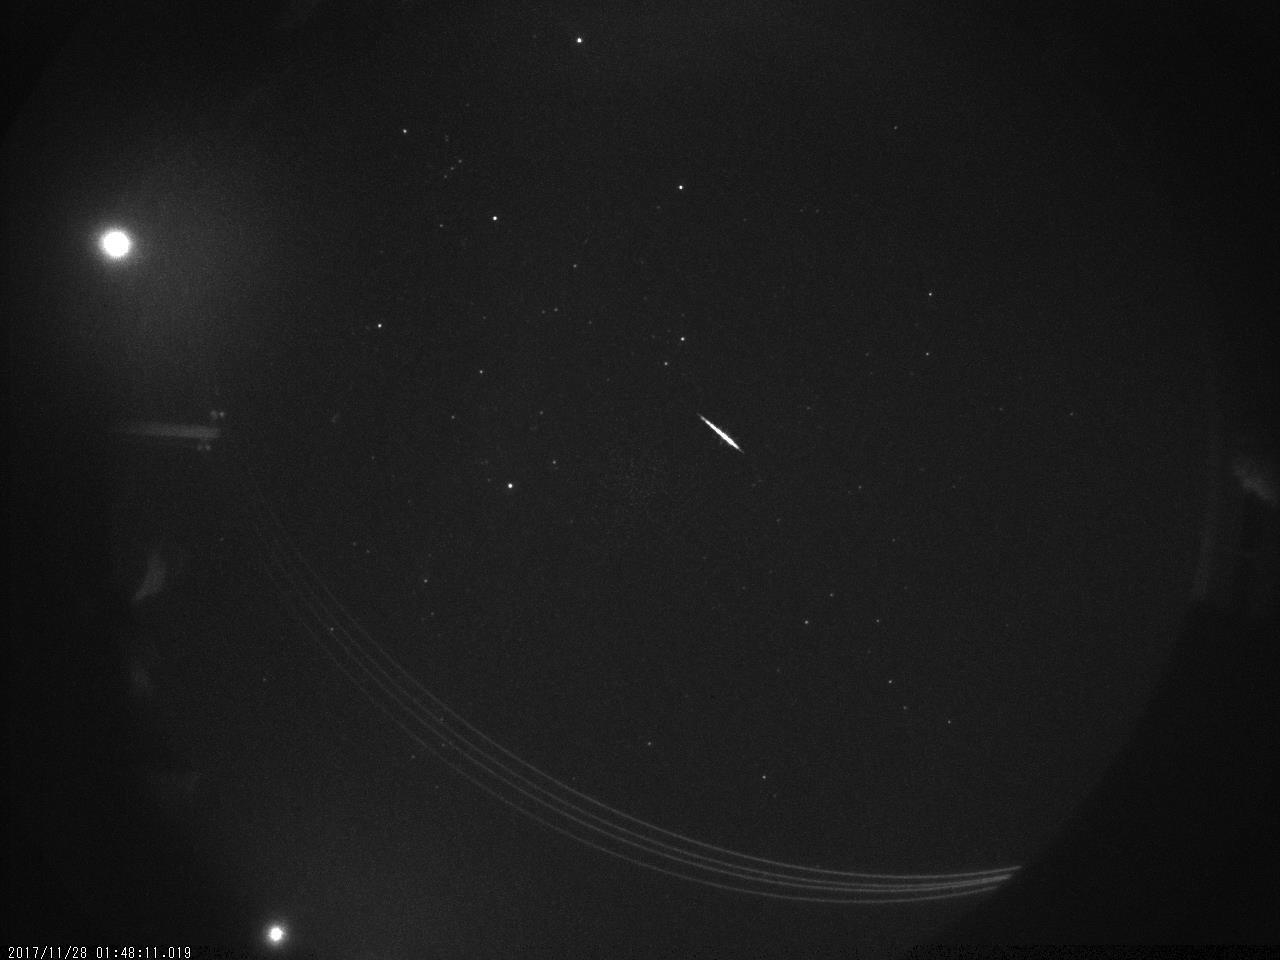Meteor: (697, 410, 744, 453)
